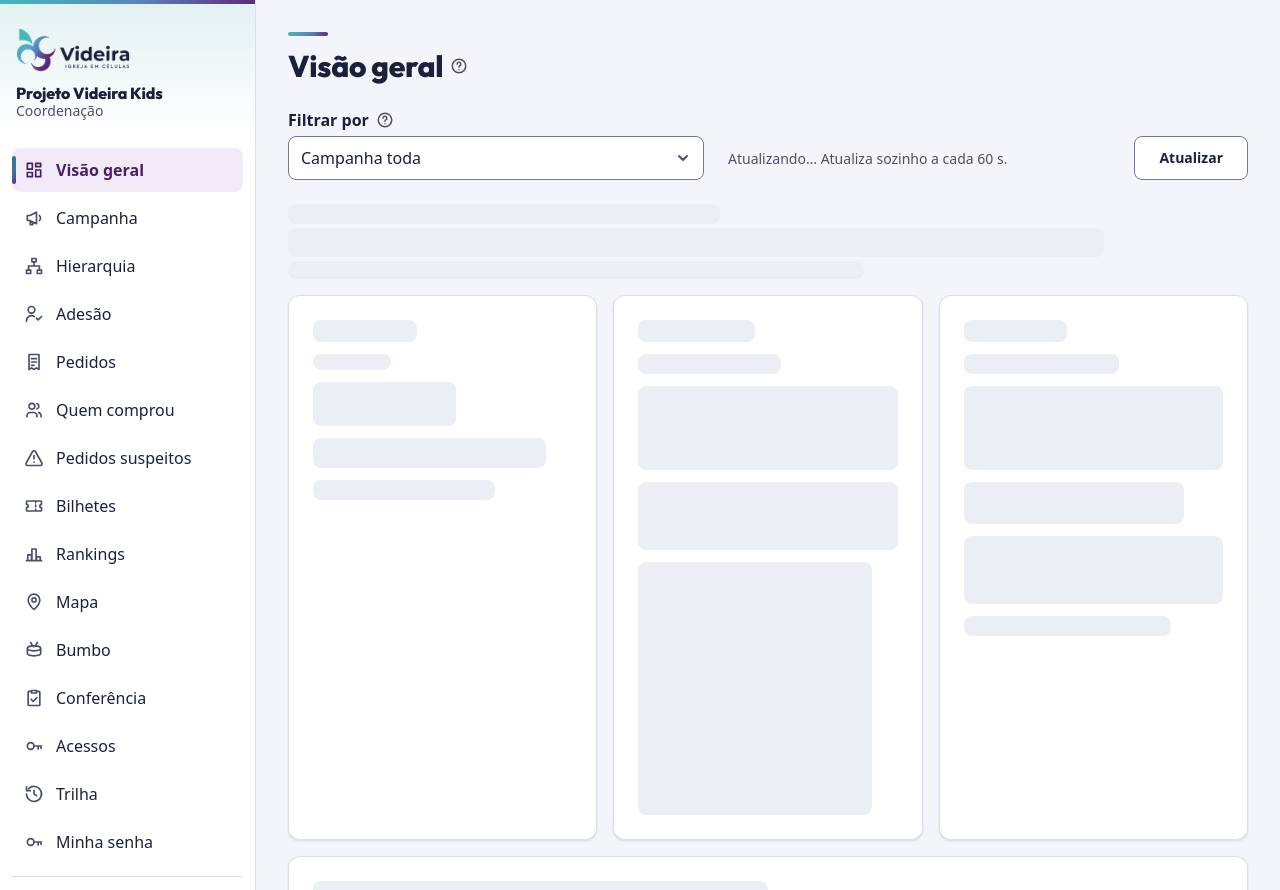
RIFA-024: só admin › o admin vê 'Trilha' no menu e o link abre a tela
The width and height of the screenshot is (1280, 890).
Click the link "Trilha" at (61, 794), box [24,783,98,805]
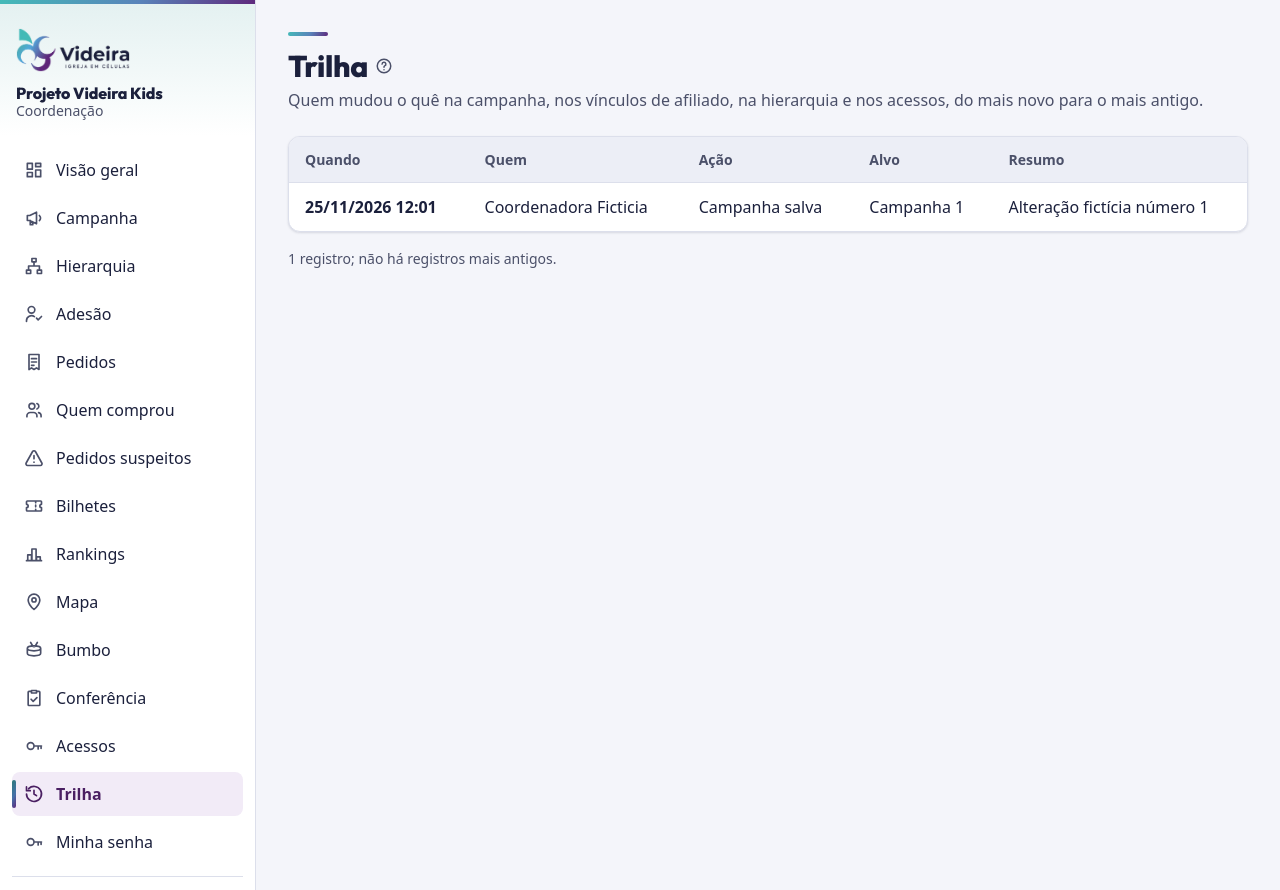
Expected: the table named "Trilha de auditoria, do mais novo para o mais antigo" is shown, [289,137,1247,231]
